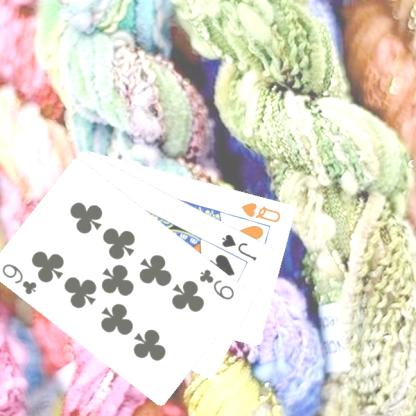9C: (196, 266, 237, 302), (0, 260, 39, 297)
JS: (219, 230, 259, 262)
QH: (239, 199, 282, 224)
